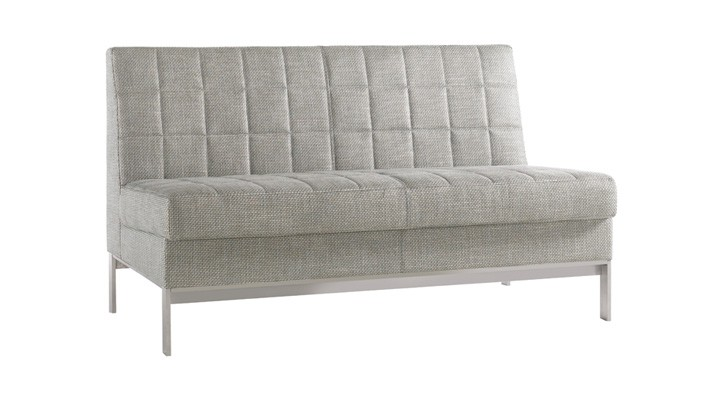chairs: (91, 41, 619, 358)
